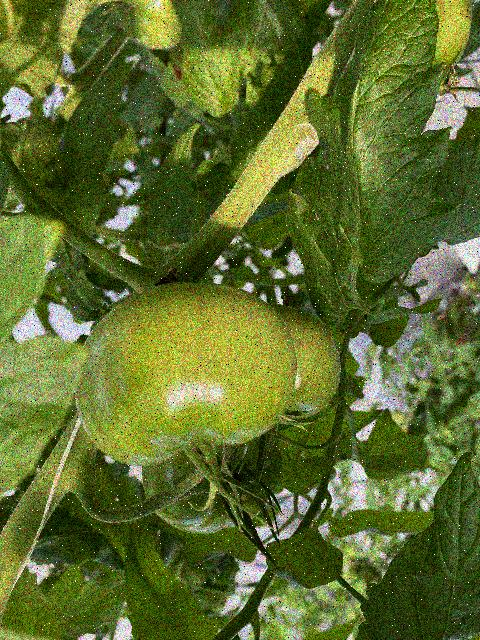b_green: (73, 282, 298, 467), (141, 433, 283, 534), (267, 302, 342, 421), (117, 0, 181, 52)
